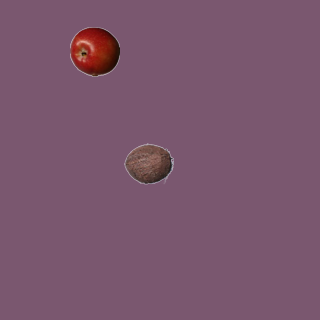Apple Braeburn: (69, 26, 119, 76)
Cocos: (123, 138, 173, 188)
